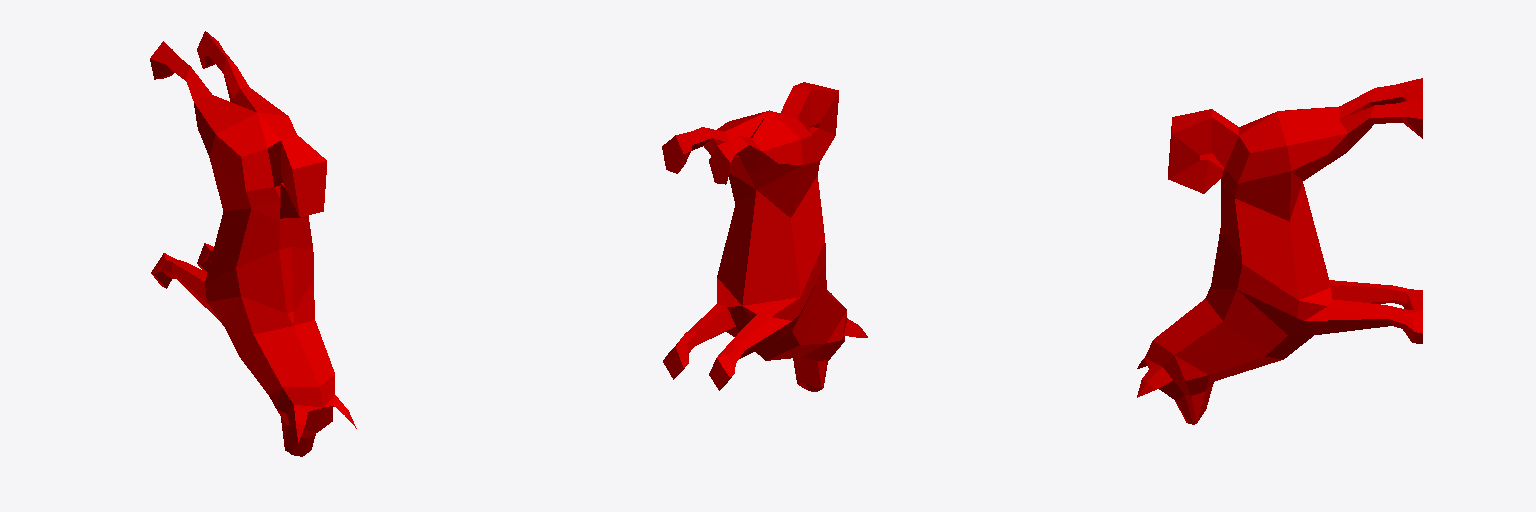
Rendered from big_shiba_inu_dog_low_poly.obj.
The picture shows the model from 3 angles: view 1: azimuth 30°, elevation 25°; view 2: azimuth 150°, elevation 25°; view 3: azimuth 270°, elevation 25°; orthographic projection.
Visible parts, largest first — view 1: obj_[number redacted]; view 2: obj_[number redacted]; view 3: obj_[number redacted].
Boxes of the visible parts, box(x1,y1,x2,y2) form: obj_[number redacted]: box(150, 31, 356, 456); obj_[number redacted]: box(662, 82, 867, 391); obj_[number redacted]: box(1137, 78, 1422, 424).
Size of the model in its own units: 35.03 by 135 by 104.